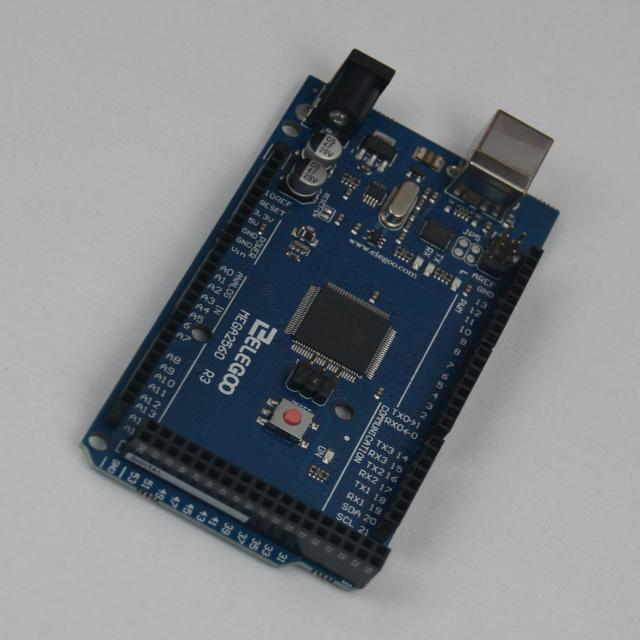Arduino Mega 2560 -Blue-: (84, 51, 557, 589)
